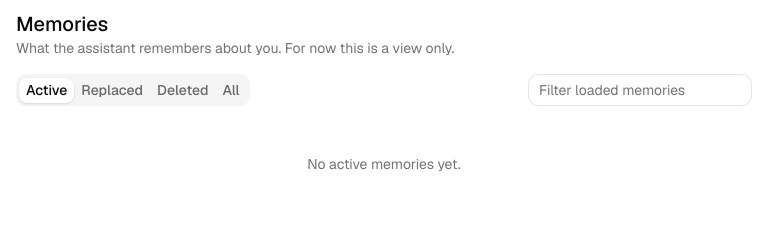
a memory's row › a replaced memory says it was, and by which
Click the tab "Replaced" at (112, 90), box [74,78,150,102]
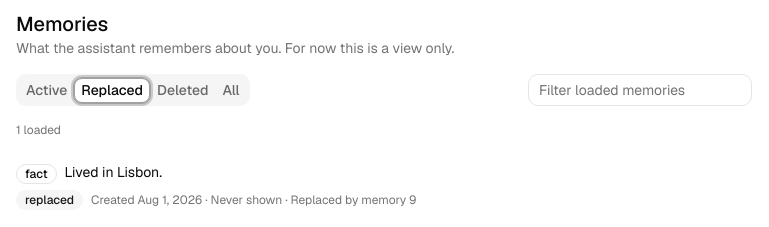
Check: the text "replaced" is shown, box [16,190,83,210]
Check: the list item "Lived in Lisbon." shows "Replaced by memory 9", box [91,192,416,208]
